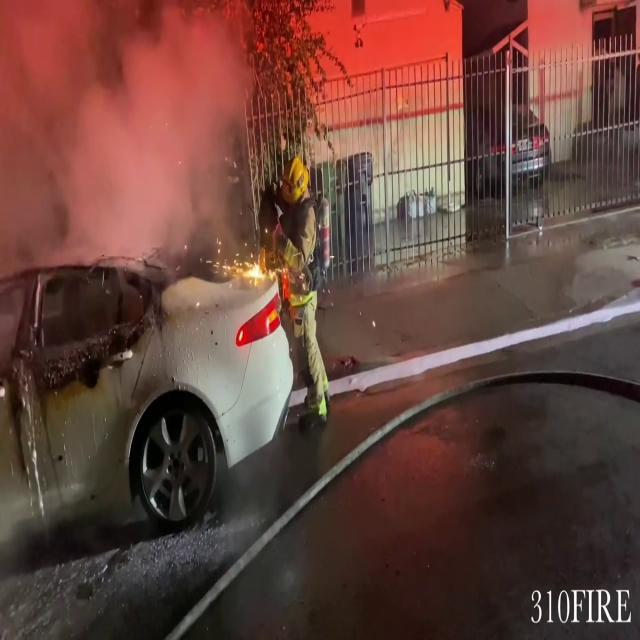Smoke: (0, 0, 258, 267)
